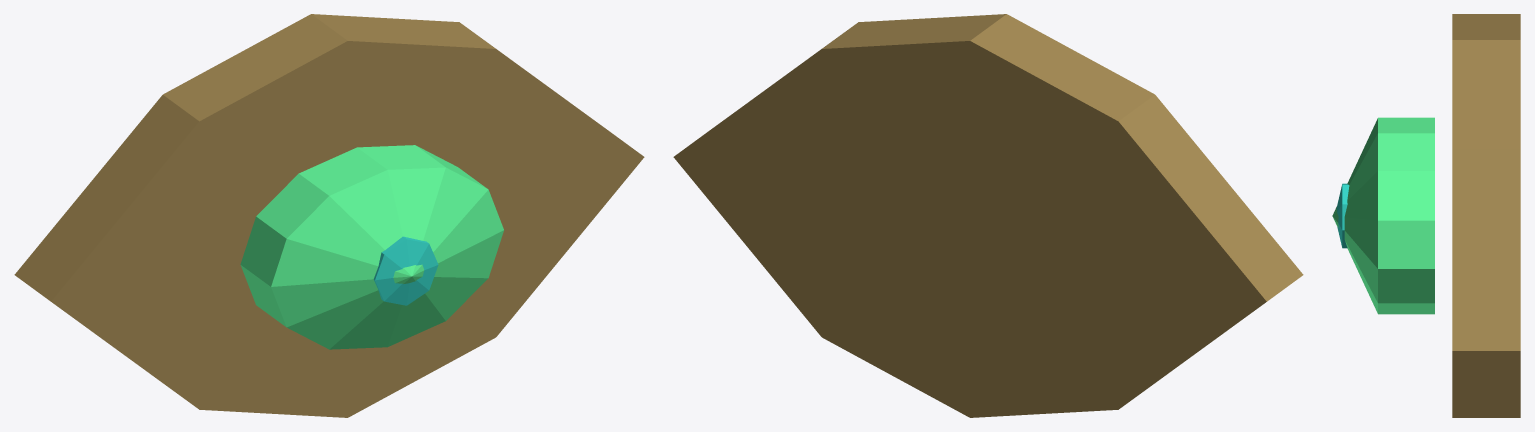
Rendered from celestial_eye.obj.
The picture shows the model from 3 angles, left to right: view 1: azimuth 30°, elevation 25°; view 2: azimuth 150°, elevation 25°; view 3: azimuth 270°, elevation 25°; orthographic projection. The views are drawn at different scales.
Visible parts, largest first — view 1: eye_plate, celestial_eye, eye_plate_edge, eye_pupil; view 2: eye_plate, eye_plate_edge; view 3: eye_plate_edge, celestial_eye, eye_pupil.
Boxes of the visible parts, x1,y1,x2,y2 form: eye_plate: (51,41,644,417); celestial_eye: (240,145,503,349); eye_plate_edge: (14,14,606,301); eye_pupil: (373,236,438,305); eye_plate: (673,41,1266,417); eye_plate_edge: (711,14,1303,301); eye_plate_edge: (1452,14,1520,417); celestial_eye: (1332,117,1434,314); eye_pupil: (1336,183,1349,248).
Bounding box in the file's own units: 0.56 × 0.34 × 0.165.
